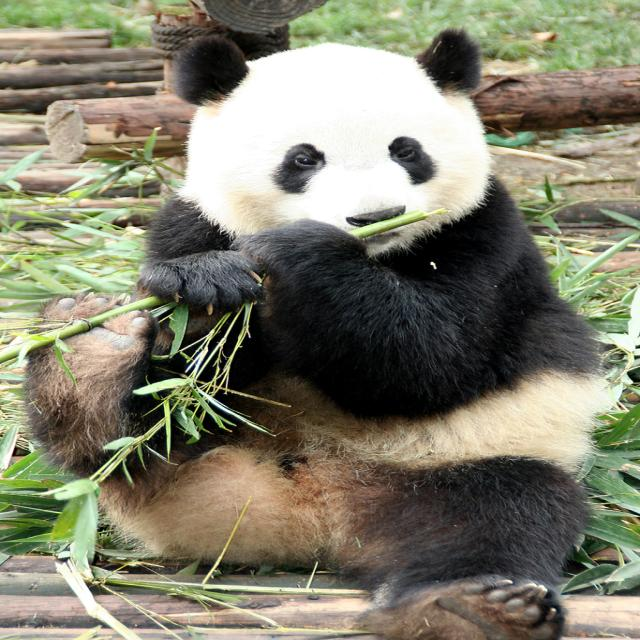panda: (20, 23, 616, 640)
